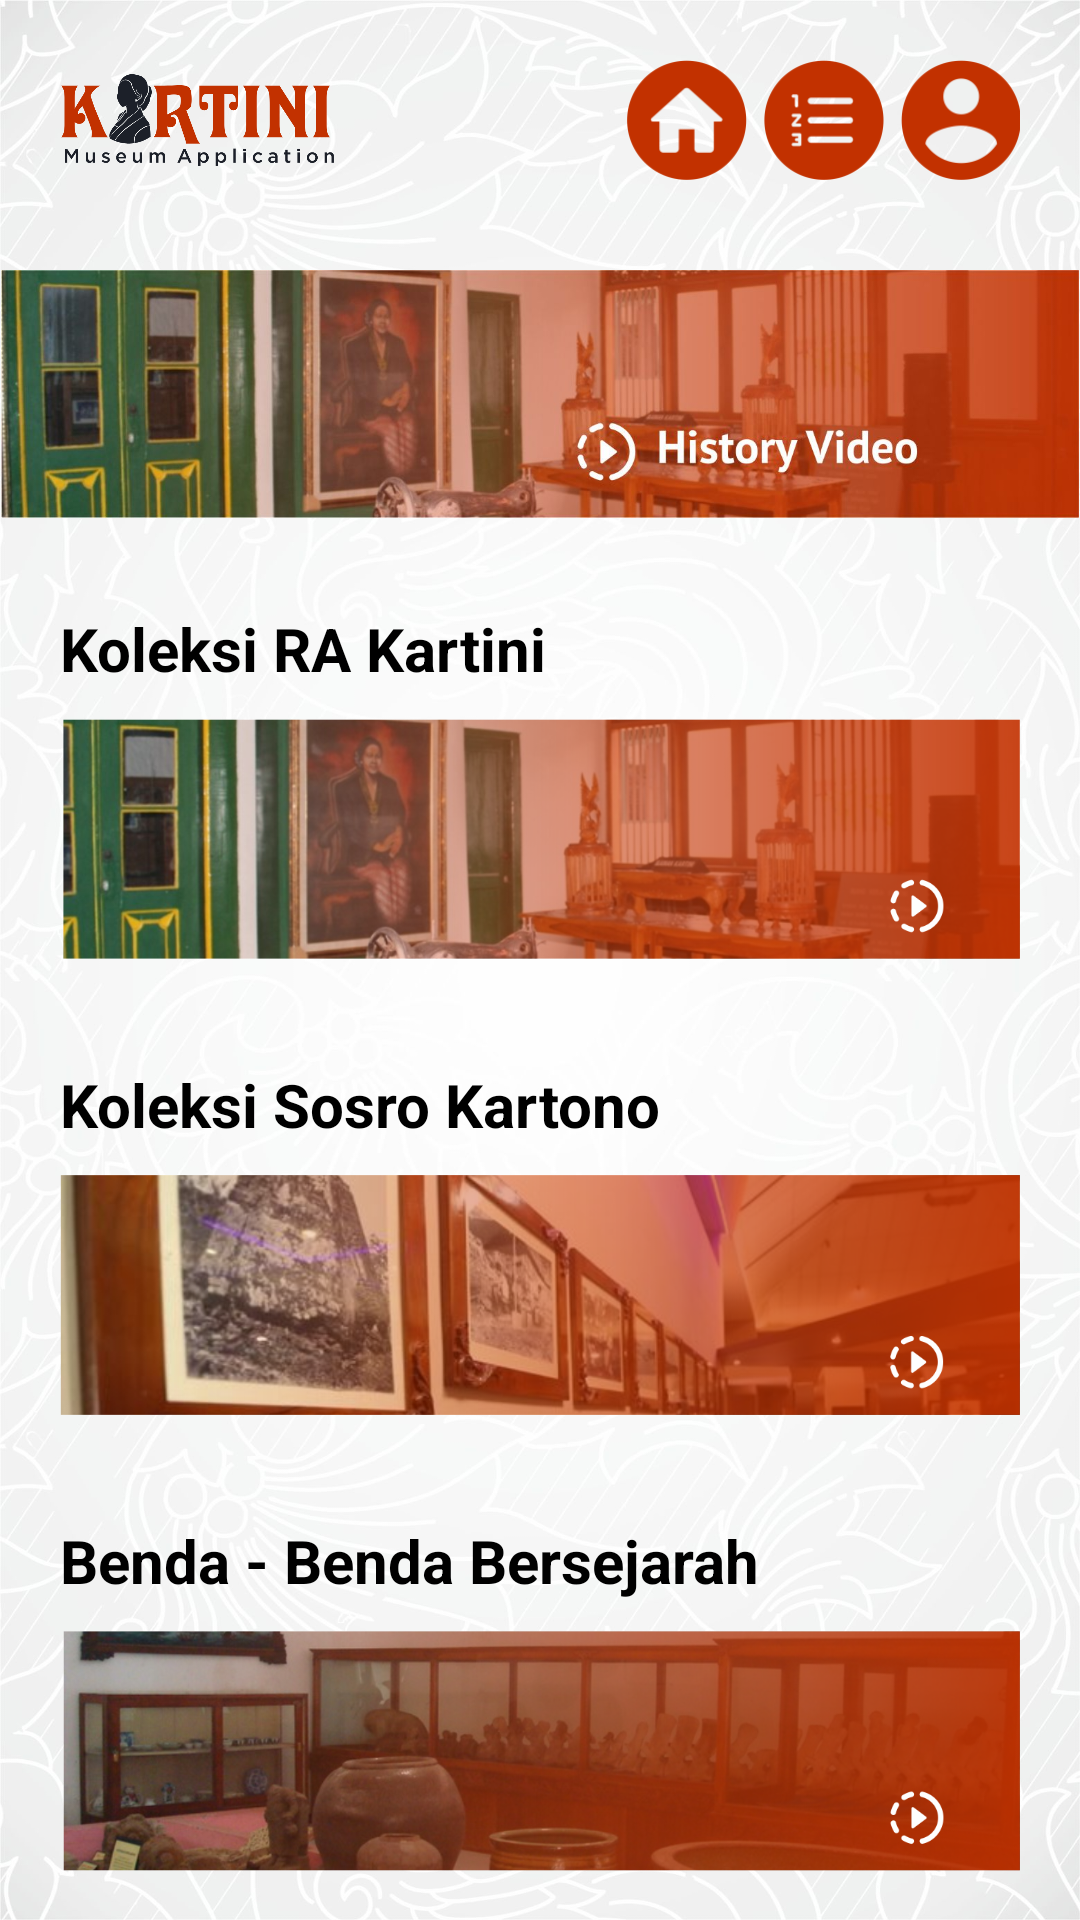

Icon click points for this 1080px x 1920px phone screenshot, format [x,y]:
home: [687,120]
menu: [824,120]
user: [960,120]
